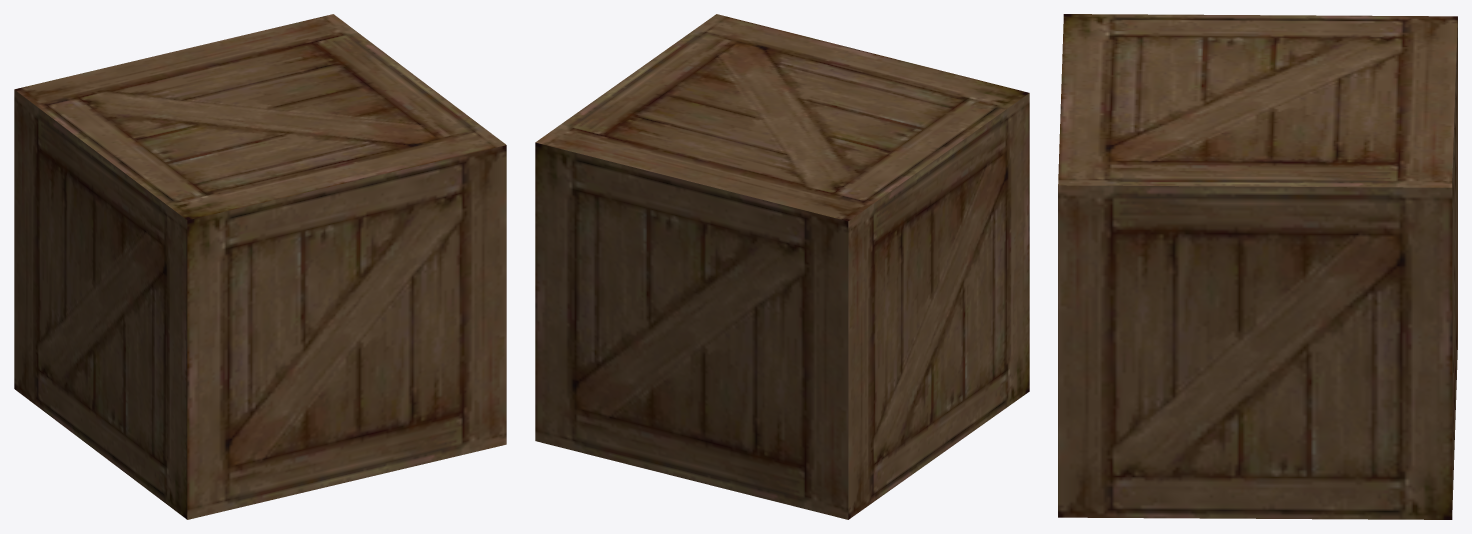
3 views of the same model, side by side, from view 1: azimuth 30°, elevation 25°; view 2: azimuth 150°, elevation 25°; view 3: azimuth 270°, elevation 25° (orthographic). The views are drawn at different scales.
Visible parts, largest first — view 1: pasted__Combined_Mesh_root_scene__Mesh_polySurface4508; view 2: pasted__Combined_Mesh_root_scene__Mesh_polySurface4508; view 3: pasted__Combined_Mesh_root_scene__Mesh_polySurface4508.
Boxes of the visible parts, box(x1,y1,x2,y2) form: pasted__Combined_Mesh_root_scene__Mesh_polySurface4508: box(14, 14, 506, 519); pasted__Combined_Mesh_root_scene__Mesh_polySurface4508: box(535, 14, 1029, 519); pasted__Combined_Mesh_root_scene__Mesh_polySurface4508: box(1058, 14, 1457, 519).
Size of the model in its own units: 2.33 by 2.08 by 2.27.
